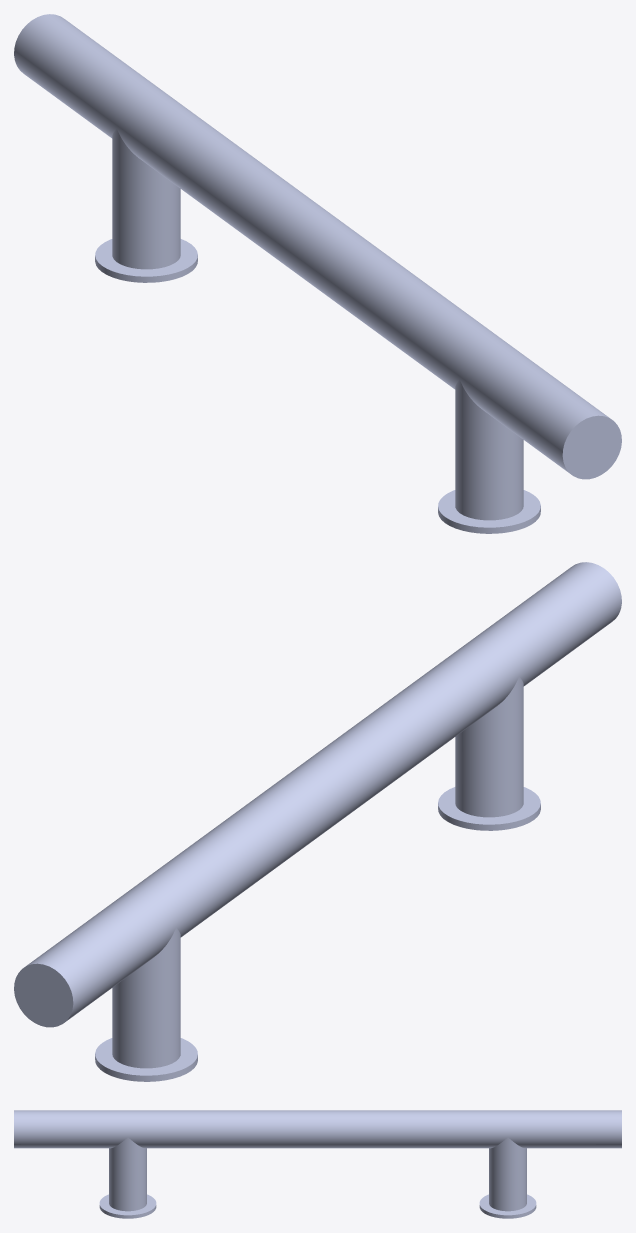
Rendered from Wallmount Handle.fbx.
The picture shows the model from 3 angles, top to bottom: view 1: azimuth 30°, elevation 25°; view 2: azimuth 150°, elevation 25°; view 3: azimuth 270°, elevation 25°; orthographic projection. The views are drawn at different scales.
Parts seen in each view (by area): view 1: Body_1; view 2: Body_1; view 3: Body_1.
Part boxes in pixels (x1,y1,x2,y2): Body_1: (14,14,621,533); Body_1: (14,562,621,1081); Body_1: (14,1110,621,1218).
Size of the model in its own units: 0.0381 by 0.4064 by 0.0698.
